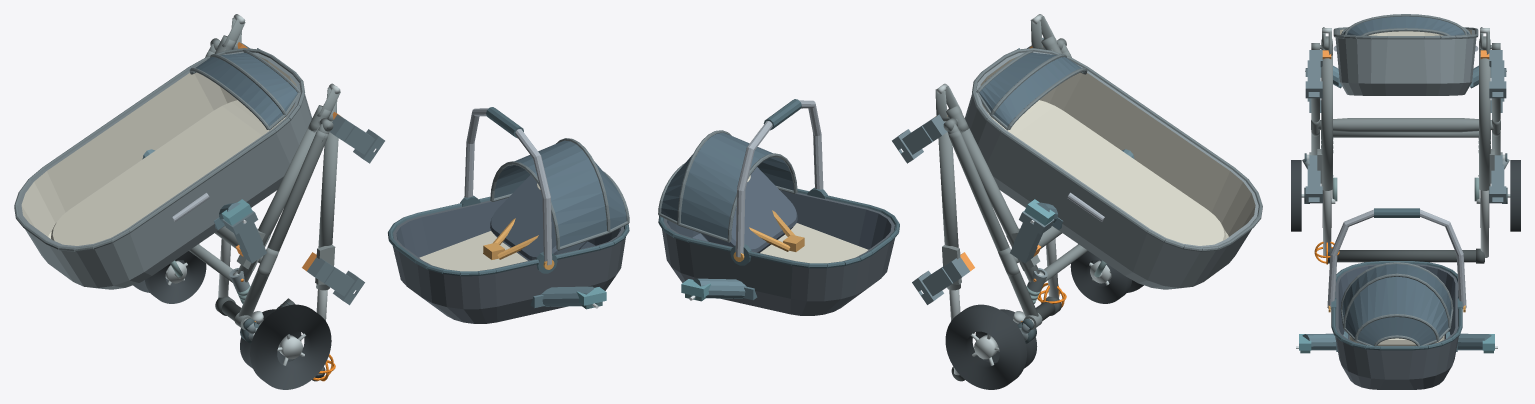
Rendered from D07_w550_state3_wheel_S.glb.
3 views of the same model, side by side, from view 1: azimuth 30°, elevation 25°; view 2: azimuth 150°, elevation 25°; view 3: azimuth 270°, elevation 25° (orthographic). The views are drawn at different scales.
Parts seen in each view (by area): view 1: D07_Lower, D07_Upper, RL_tire.004, V46_rear_leg_-1.005, main_lower_-1.005, FR_tire.004, main_upper_-1.005, D07_Upper_Mount_H, Universal_Cabin_Receiver_H_-1, Universal_Cabin_Receiver_M_-1, Universal_Cabin_Receiver_L_-1, D07_Lower_Mount_L (+1 smaller); view 2: D07_Lower, D07_Upper, RR_tire.004, V46_rear_leg_1.005, main_lower_1.005, FL_tire.004, main_upper_1.005, D07_Upper_Mount_H, Universal_Cabin_Receiver_H_1, Universal_Cabin_Receiver_M_1, Universal_Cabin_Receiver_L_1, D07_Lower_Mount_L (+1 smaller); view 3: D07_Upper, D07_Lower, V46_rearbar.005, round_handle.004, main_upper_1.005, main_upper_-1.005, D07_Upper_Mount_H, front_fixed_round_tube.004, RL_tire.004, RR_tire.004, Universal_Cabin_Receiver_M_1, Universal_Cabin_Receiver_M_-1 (+7 smaller).
Part boxes in pixels (x1,y1,x2,y2): D07_Lower: [14, 48, 312, 289]; D07_Upper: [388, 107, 629, 323]; RL_tire.004: [250, 304, 331, 389]; V46_rear_leg_-1.005: [238, 130, 328, 316]; main_lower_-1.005: [237, 126, 319, 282]; FR_tire.004: [145, 251, 206, 303]; main_upper_-1.005: [316, 121, 338, 290]; D07_Upper_Mount_H: [530, 286, 606, 309]; Universal_Cabin_Receiver_H_-1: [307, 257, 364, 305]; Universal_Cabin_Receiver_M_-1: [329, 114, 384, 163]; Universal_Cabin_Receiver_L_-1: [222, 210, 266, 263]; D07_Lower_Mount_L: [142, 149, 252, 229]; D07_Lower: [964, 48, 1262, 289]; D07_Upper: [658, 99, 899, 315]; RR_tire.004: [945, 304, 1026, 389]; V46_rear_leg_1.005: [948, 130, 1038, 316]; main_lower_1.005: [958, 127, 1039, 282]; FL_tire.004: [1070, 251, 1131, 303]; main_upper_1.005: [938, 121, 960, 290]; D07_Upper_Mount_H: [681, 278, 757, 301]; Universal_Cabin_Receiver_H_1: [912, 257, 969, 304]; Universal_Cabin_Receiver_M_1: [892, 114, 947, 163]; Universal_Cabin_Receiver_L_1: [1010, 210, 1054, 263]; D07_Lower_Mount_L: [1024, 149, 1134, 229]; D07_Upper: [1327, 208, 1466, 389]; D07_Lower: [1333, 14, 1478, 95]; V46_rearbar.005: [1318, 118, 1493, 132]; round_handle.004: [1337, 250, 1484, 262]; main_upper_1.005: [1479, 54, 1490, 190]; main_upper_-1.005: [1321, 54, 1332, 190]; D07_Upper_Mount_H: [1296, 331, 1497, 353]; front_fixed_round_tube.004: [1333, 131, 1478, 137]; RL_tire.004: [1291, 160, 1301, 231]; RR_tire.004: [1510, 160, 1520, 231]; Universal_Cabin_Receiver_M_1: [1489, 50, 1506, 98]; Universal_Cabin_Receiver_M_-1: [1305, 50, 1322, 98].
Size of the model in its own units: 1.53 by 0.7426 by 0.641.
